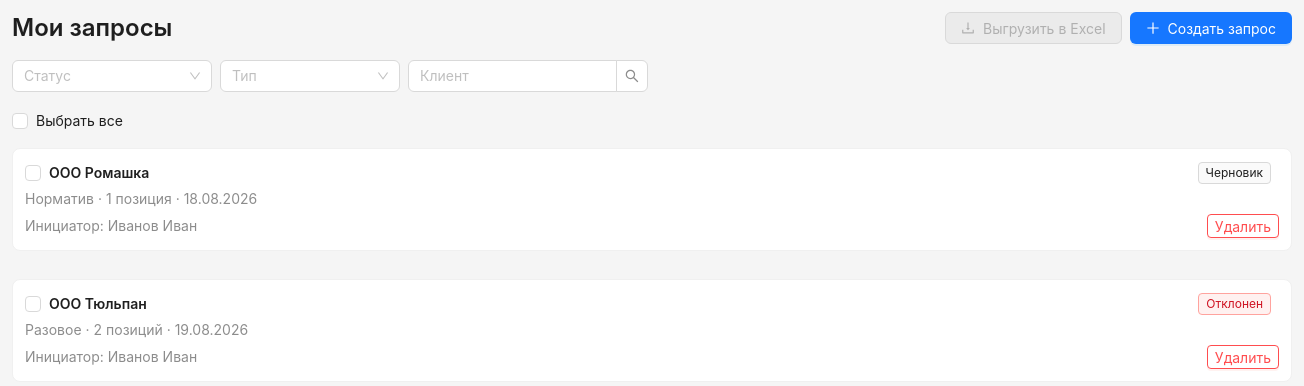
Test: MyRequestsPage › selects and clears every request with one checkbox
The width and height of the screenshot is (1304, 386).
Click the 1st checkbox labelled "Выбрать все" at x=71, y=121, box 12,110 -> 131,132
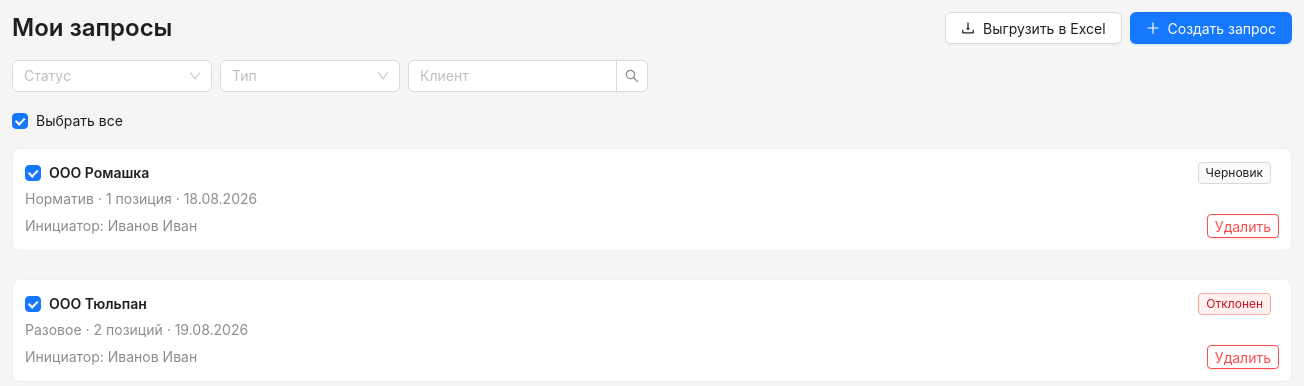
Result: the 1st checkbox labelled "Выбрать все" is checked
Result: the checkbox named "Выбрать запрос ООО Ромашка" is checked at 25,162 -> 41,184
Result: the checkbox named "Выбрать запрос ООО Тюльпан" is checked at 25,292 -> 41,314
Click the 1st checkbox labelled "Выбрать все" at x=71, y=121, box 12,110 -> 131,132
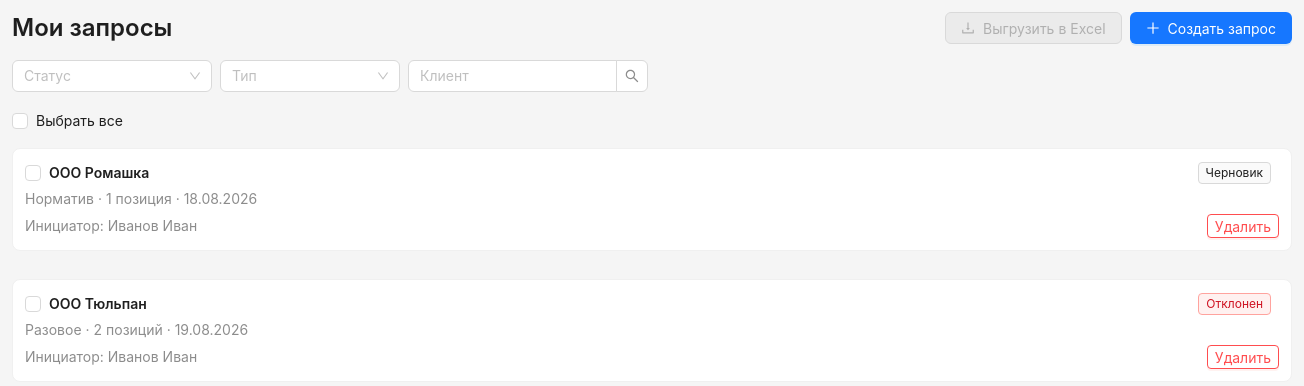
Result: the checkbox named "Выбрать запрос ООО Ромашка" is not checked at 25,162 -> 41,184
Result: the checkbox named "Выбрать запрос ООО Тюльпан" is not checked at 25,292 -> 41,314
Result: the button "Выгрузить в Excel" is disabled at 945,12 -> 1122,44
